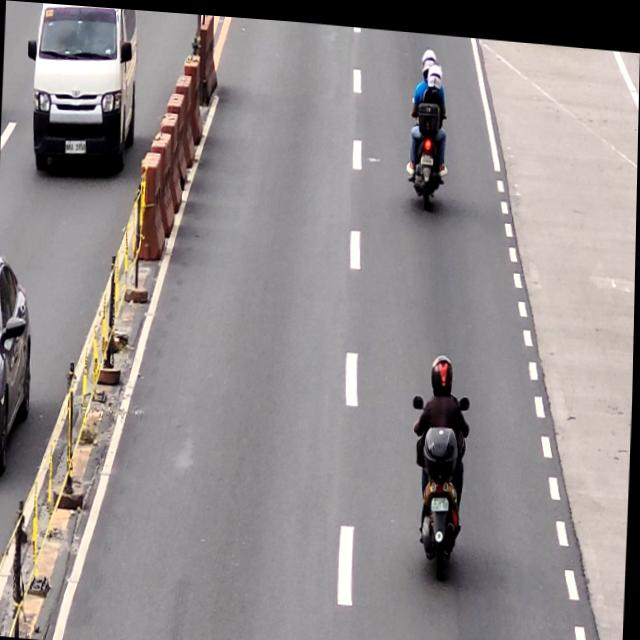License-Plate: (431, 489, 451, 505), (421, 148, 434, 160)
Motorcycle: (407, 386, 470, 574), (408, 87, 447, 204)
